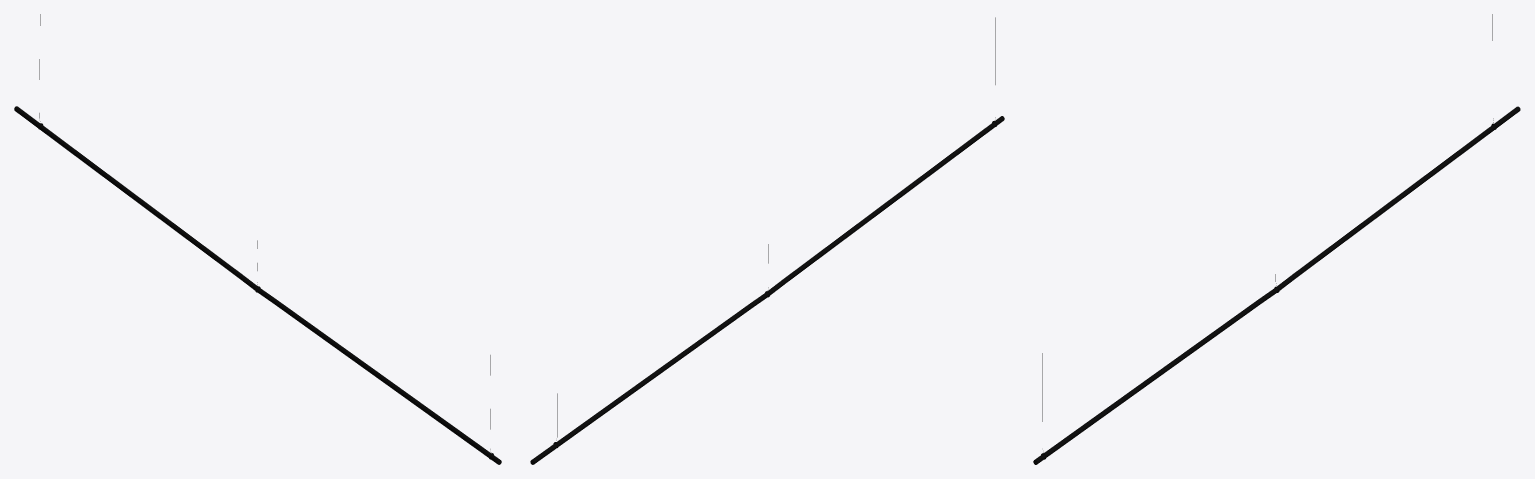
Rendered from BlackMetal004.FBX.
The picture shows the model from 3 angles, left to right: view 1: azimuth 30°, elevation 25°; view 2: azimuth 150°, elevation 25°; view 3: azimuth 330°, elevation 25°; orthographic projection. The views are drawn at different scales.
Visible parts, largest first — view 1: BlackMetal004; view 2: BlackMetal004; view 3: BlackMetal004.
Boxes of the visible parts, bbox=[...] form: BlackMetal004: bbox=[14, 14, 501, 464]; BlackMetal004: bbox=[530, 17, 1004, 464]; BlackMetal004: bbox=[1033, 14, 1520, 464].
Bounding box in the file's own units: 0.1219 × 2.51 × 18.31.
Materials: 1 (1 with a texture image).
